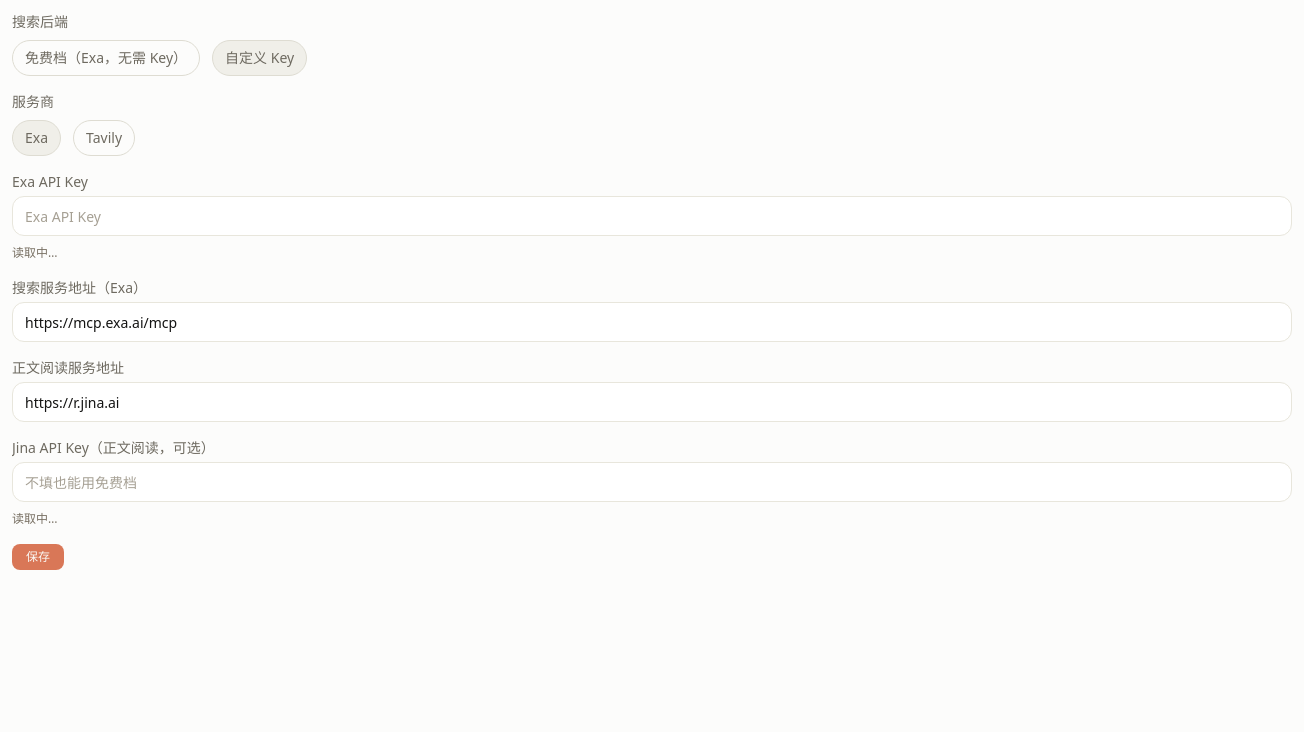
Test: 内置插件「联网搜索」的设置面 › 通道不可用（window.kyclaw 缺失）：给一句交代，不静默
The image size is (1304, 732).
Type "k" into the password field with test id "web-search-exa-key" at (652, 216), box x1=12 y1=196 x2=1292 y2=236
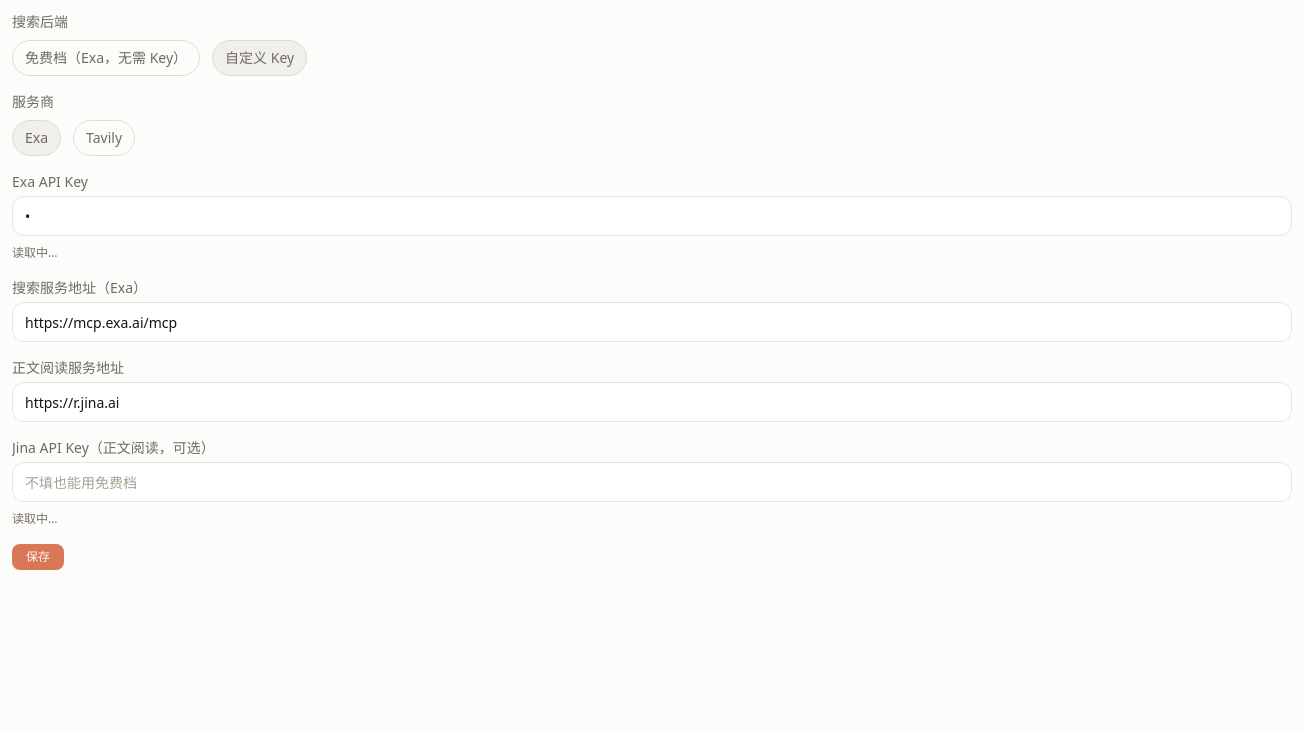
Click the button with test id "web-search-save" at (38, 557), box x1=12 y1=544 x2=64 y2=570
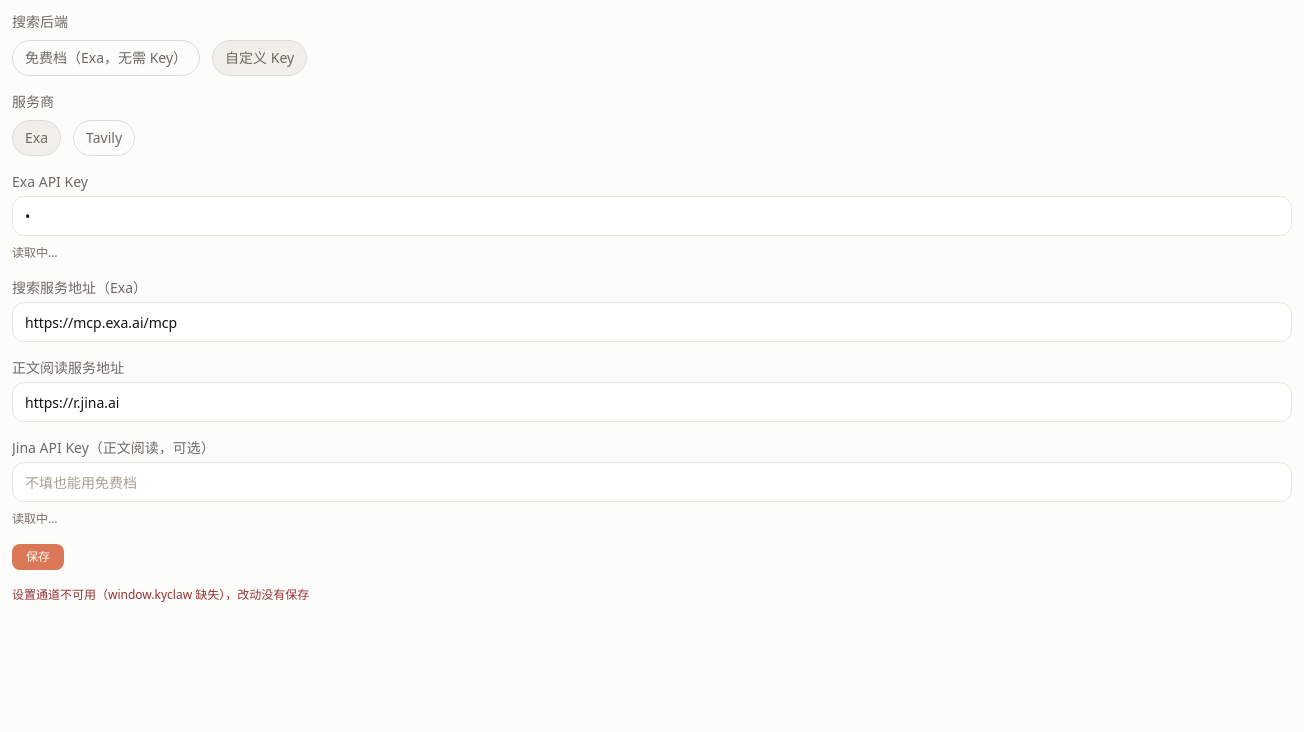
expect the text with test id "web-search-error" shows "通道不可用": met, box x1=12 y1=586 x2=309 y2=603
